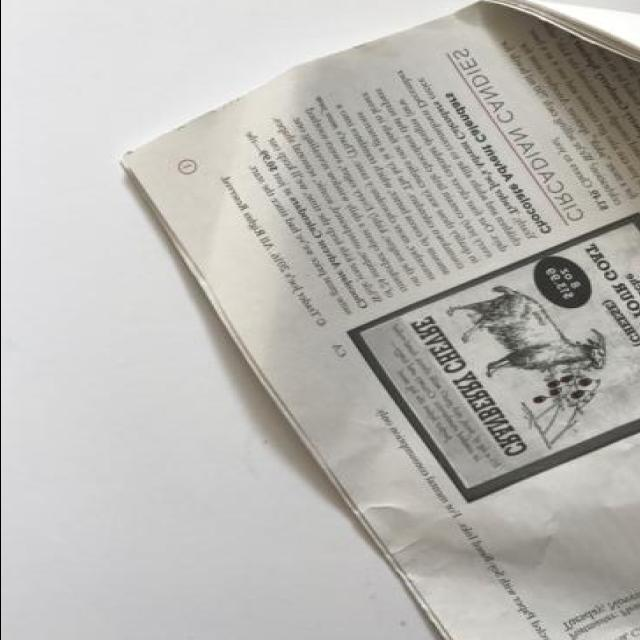kertas: (112, 0, 640, 640)
